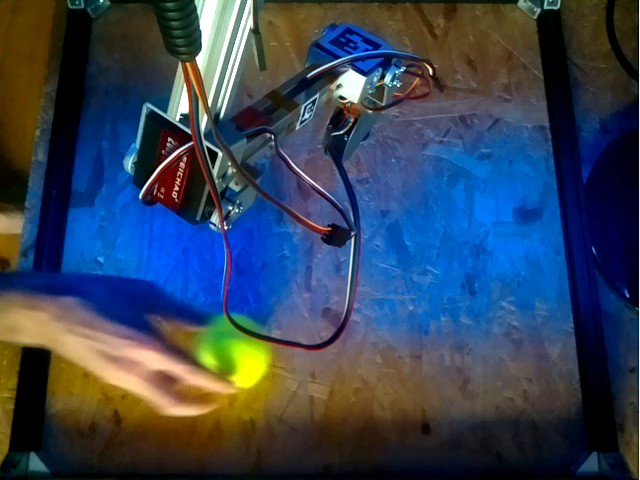tennis_ball: (197, 312, 273, 389)
